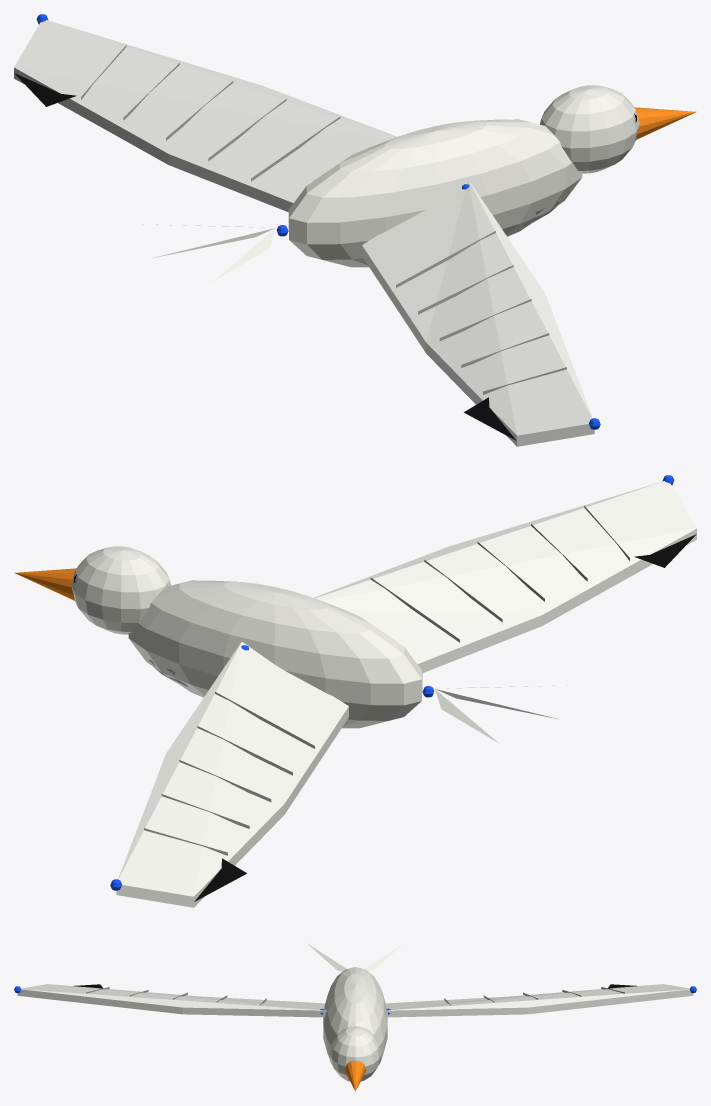
Rendered from seagull_bird_in_flight.obj.
3 renders of one model, top to bottom at view 1: azimuth 30°, elevation 25°; view 2: azimuth 150°, elevation 25°; view 3: azimuth 270°, elevation 25°, orthographic. The views are drawn at different scales.
Visible parts, largest first — view 1: Right_wing_extended_glide_pose, Left_wing_extended_glide_pose, Body_streamlined_white_torso, Head_rounded_white, Left_wing_extended_glide_pose_individual_feather_ridges, Right_wing_extended_glide_pose_individual_feather_ridges, Beak_yellow_orange_pointed, Tail_fanned_feathers, Left_wing_extended_glide_pose_dark_primary_tips; view 2: Left_wing_extended_glide_pose, Right_wing_extended_glide_pose, Body_streamlined_white_torso, Head_rounded_white, Right_wing_extended_glide_pose_individual_feather_ridges, Left_wing_extended_glide_pose_individual_feather_ridges, Beak_yellow_orange_pointed, Tail_fanned_feathers, Right_wing_extended_glide_pose_dark_primary_tips; view 3: Left_wing_extended_glide_pose, Right_wing_extended_glide_pose, Body_streamlined_white_torso, Head_rounded_white, Beak_yellow_orange_pointed, Tail_fanned_feathers.
Boxes of the visible parts, left/top/right/bottom form: Right_wing_extended_glide_pose: left=14, top=20, right=397, bottom=212; Left_wing_extended_glide_pose: left=362, top=181, right=594, bottom=446; Body_streamlined_white_torso: left=288, top=119, right=582, bottom=267; Head_rounded_white: left=540, top=85, right=639, bottom=173; Left_wing_extended_glide_pose_individual_feather_ridges: left=396, top=231, right=566, bottom=394; Right_wing_extended_glide_pose_individual_feather_ridges: left=81, top=45, right=340, bottom=181; Beak_yellow_orange_pointed: left=634, top=107, right=696, bottom=139; Tail_fanned_feathers: left=143, top=224, right=275, bottom=282; Left_wing_extended_glide_pose_dark_primary_tips: left=464, top=397, right=516, bottom=440; Left_wing_extended_glide_pose: left=313, top=481, right=696, bottom=673; Right_wing_extended_glide_pose: left=116, top=642, right=348, bottom=907; Body_streamlined_white_torso: left=128, top=580, right=422, bottom=728; Head_rounded_white: left=71, top=546, right=170, bottom=634; Right_wing_extended_glide_pose_individual_feather_ridges: left=144, top=692, right=314, bottom=855; Left_wing_extended_glide_pose_individual_feather_ridges: left=370, top=506, right=629, bottom=642; Beak_yellow_orange_pointed: left=14, top=568, right=76, bottom=600; Tail_fanned_feathers: left=435, top=685, right=567, bottom=743; Right_wing_extended_glide_pose_dark_primary_tips: left=194, top=858, right=246, bottom=901; Left_wing_extended_glide_pose: left=17, top=984, right=326, bottom=1017; Right_wing_extended_glide_pose: left=384, top=984, right=693, bottom=1017; Body_streamlined_white_torso: left=323, top=967, right=387, bottom=1080; Head_rounded_white: left=330, top=1026, right=380, bottom=1080; Beak_yellow_orange_pointed: left=344, top=1061, right=366, bottom=1091; Tail_fanned_feathers: left=307, top=943, right=403, bottom=971.
Bounding box in the file's own units: 2.58 × 0.62 × 4.55.
